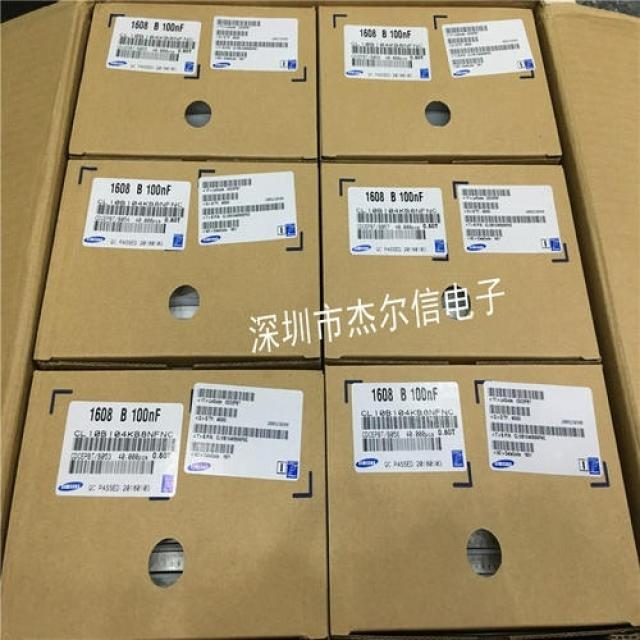box: (0, 369, 329, 639), (325, 364, 640, 636), (32, 156, 321, 369), (319, 164, 614, 362), (538, 0, 640, 465), (316, 6, 570, 163), (68, 3, 317, 160)
